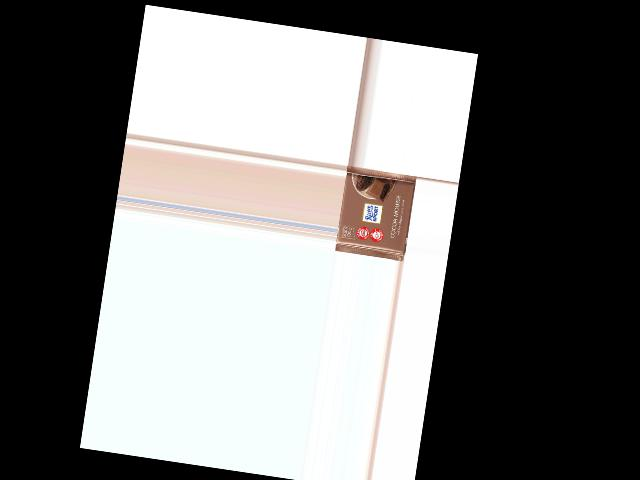chocolate: (335, 166, 417, 260)
